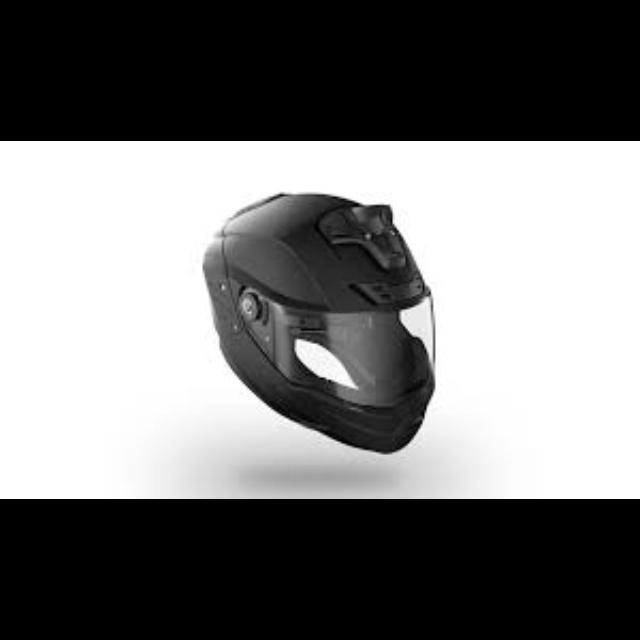motorcycle-helmets: (203, 194, 433, 452)
